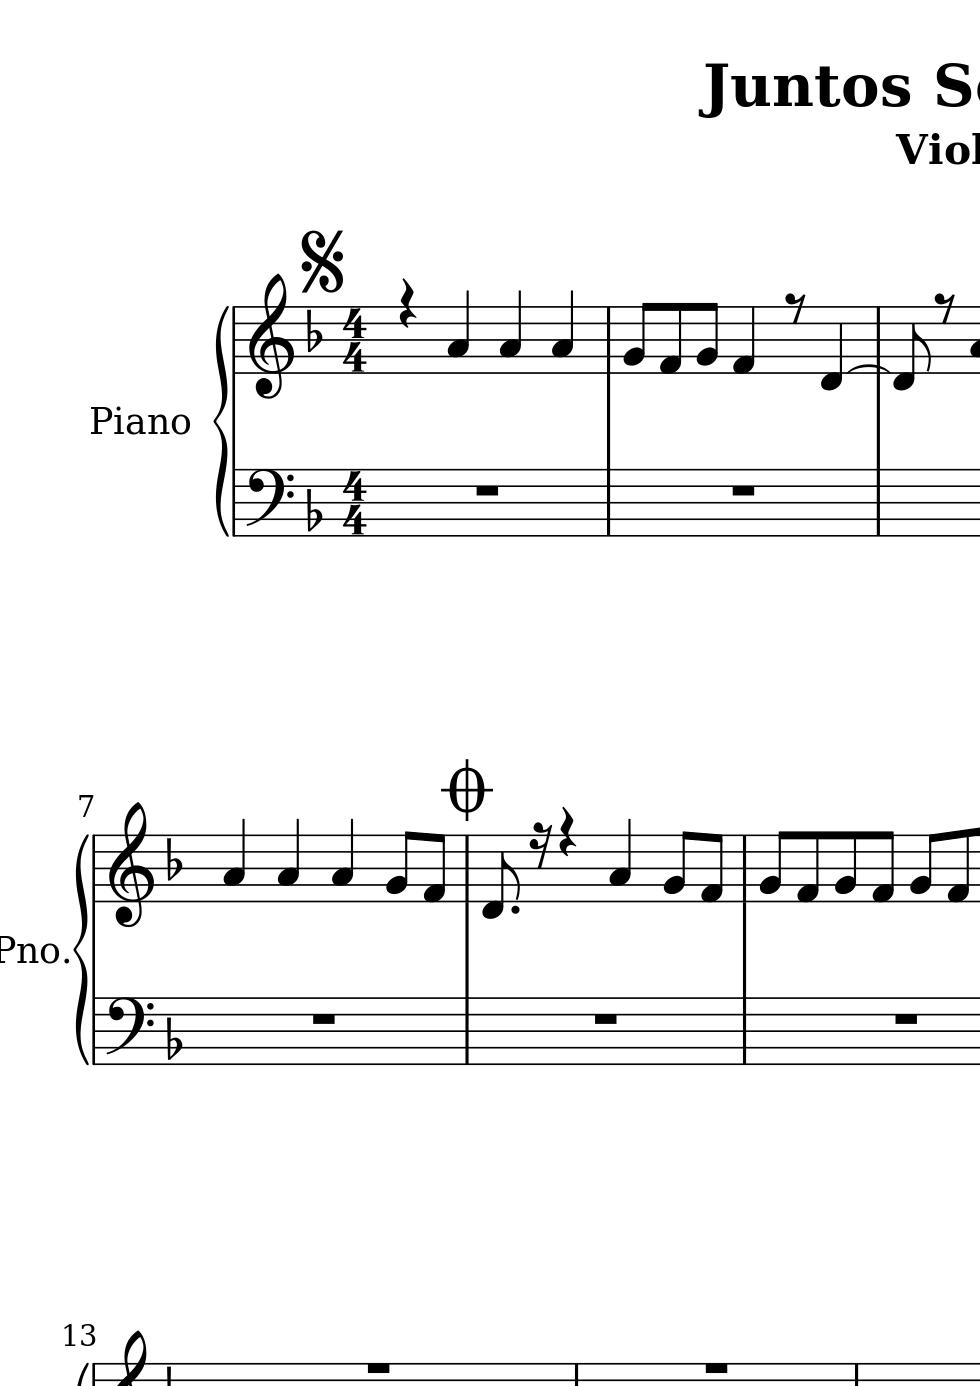1: (62, 1321, 76, 1349)
3: (80, 1321, 97, 1350)
4: (340, 305, 370, 340), (339, 340, 370, 373), (342, 469, 369, 502), (342, 502, 368, 536)
4_3: (329, 817, 355, 903), (607, 817, 633, 903), (275, 817, 300, 903), (221, 817, 246, 902), (497, 290, 522, 374), (447, 288, 470, 374), (550, 290, 574, 374)
7: (77, 791, 95, 820)
8_-1: (891, 305, 929, 392), (480, 832, 518, 920), (817, 305, 844, 394)
8_1: (657, 301, 683, 378), (945, 826, 970, 905), (869, 829, 895, 905), (794, 829, 820, 905), (730, 304, 756, 375), (421, 832, 447, 905), (699, 832, 724, 905)
8_2: (383, 829, 414, 903), (661, 829, 692, 903), (757, 829, 788, 902), (622, 300, 651, 374), (908, 832, 938, 903), (832, 828, 857, 903), (694, 301, 718, 375)
Brace: (211, 303, 230, 539), (71, 831, 90, 1062)
Coda: (441, 758, 493, 820)
Fclef: (243, 468, 294, 539), (103, 995, 154, 1062)
Flat: (302, 308, 323, 354), (163, 1015, 185, 1062), (163, 835, 183, 882), (303, 486, 322, 533)
Gclef: (246, 271, 294, 402), (106, 801, 154, 929)
Pno: (90, 402, 191, 439), (1, 932, 60, 966)
Rests1: (308, 1010, 339, 1028), (363, 1359, 393, 1378), (891, 1008, 921, 1027), (701, 1359, 731, 1378), (590, 1010, 620, 1027), (472, 481, 502, 498), (728, 483, 758, 498)
Rests16: (528, 821, 552, 870)
Rests4: (396, 277, 417, 331), (557, 806, 578, 859)
Rests8: (784, 291, 807, 324), (934, 291, 956, 324)
Segno: (296, 225, 350, 294)
Single_barline: (600, 308, 617, 374), (736, 834, 752, 903), (458, 835, 474, 903), (600, 469, 616, 537), (736, 998, 752, 1065), (227, 306, 242, 374), (459, 998, 474, 1065), (870, 470, 885, 536), (87, 835, 101, 902), (88, 998, 102, 1065), (229, 469, 241, 536)
Slur: (848, 363, 887, 374)
TimeSig: (340, 469, 370, 536), (342, 305, 369, 374)
dot: (507, 903, 521, 916)
